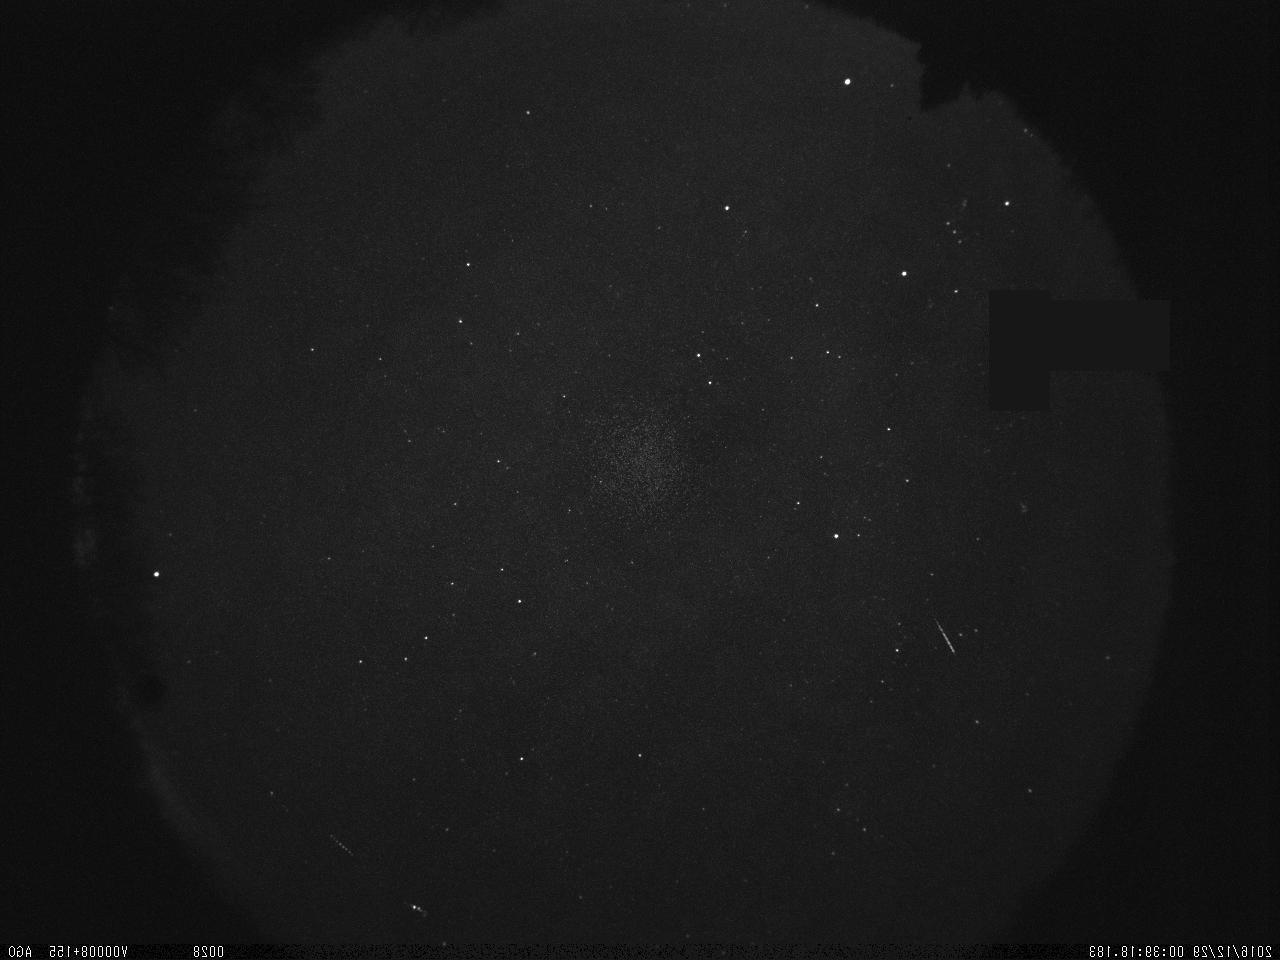meteor: (913, 597, 978, 675), (307, 818, 369, 871)
